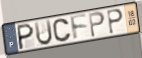C: (52, 18, 73, 43)
F: (69, 13, 89, 42)
P: (17, 22, 35, 51), (88, 11, 106, 39), (107, 8, 125, 35)
U: (33, 19, 54, 47)
